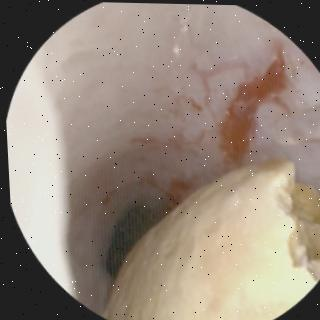stone: (107, 157, 320, 320)
tissue: (42, 2, 320, 307)
